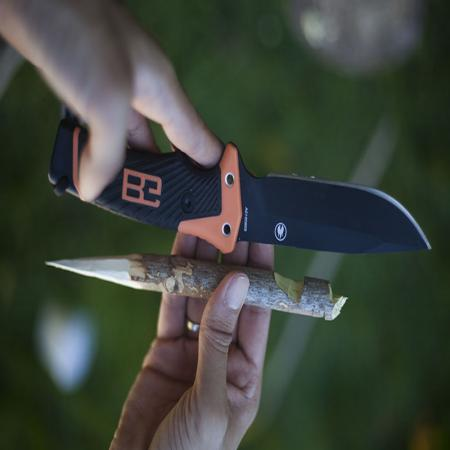long weapon: (140, 98, 438, 262)
